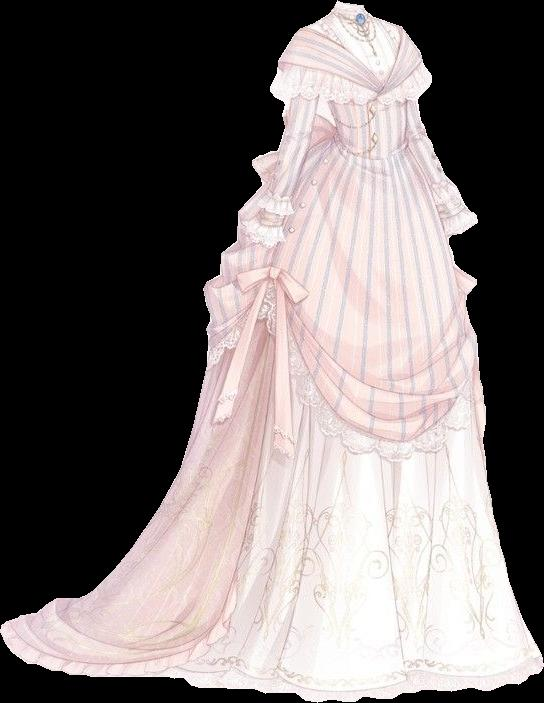Bodice: (271, 0, 431, 160)
Hemline: (0, 320, 483, 683), (0, 624, 543, 702)
Neckline: (308, 24, 404, 88), (334, 1, 372, 16)
Skirt: (0, 137, 543, 701)
Sleeve: (238, 100, 318, 248)
Sleeveline: (288, 95, 321, 107), (260, 209, 288, 223)
Waistline: (330, 137, 413, 164)
